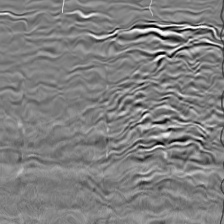cavities: (101, 17, 224, 170)
